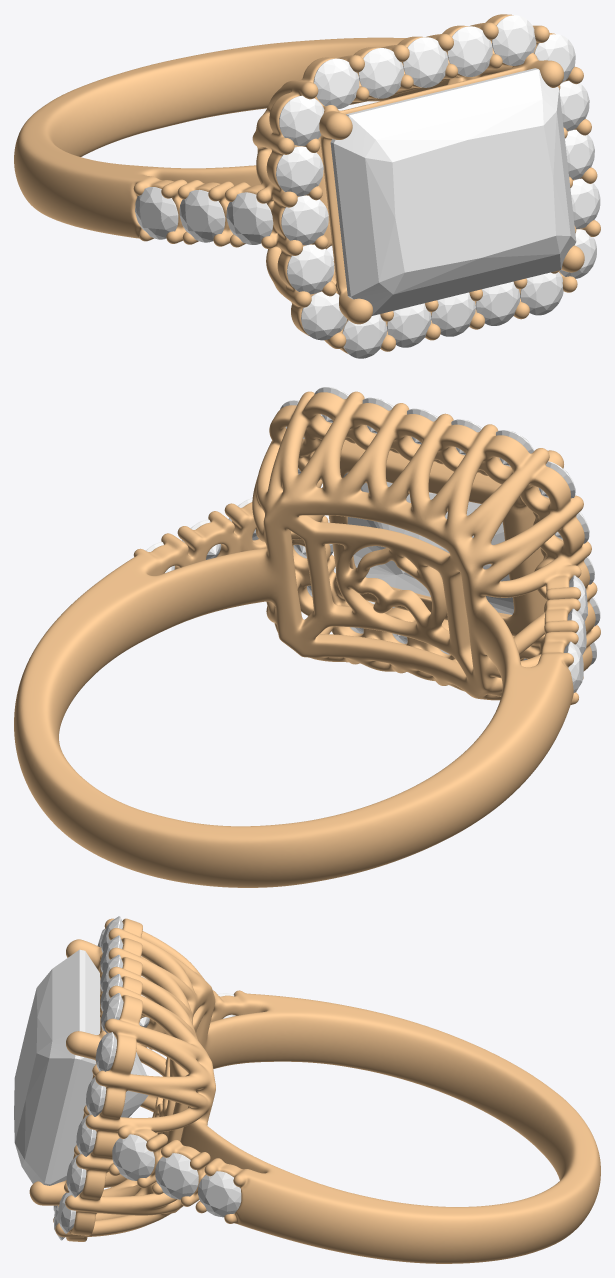
The model's file is TRG2005608_GLB.glb.
3 views of the same model, one above another, from view 1: azimuth 30°, elevation 25°; view 2: azimuth 150°, elevation 25°; view 3: azimuth 270°, elevation 25° (orthographic). The views are drawn at different scales.
Visible parts, largest first — view 1: /TRG2005608_SS_ST.3dm, Diamond_Radiant, Diamond_Round (×23); view 2: /TRG2005608_SS_ST.3dm, Diamond_Radiant; view 3: /TRG2005608_SS_ST.3dm, Diamond_Radiant, Diamond_Round (×9).
Part boxes in pixels (left/top/right/bottom): /TRG2005608_SS_ST.3dm: left=14, top=14, right=600, bottom=353; Diamond_Radiant: left=330, top=68, right=576, bottom=315; Diamond_Round (×23): left=135, top=15, right=600, bottom=358; /TRG2005608_SS_ST.3dm: left=14, top=391, right=600, bottom=887; Diamond_Radiant: left=343, top=466, right=513, bottom=614; /TRG2005608_SS_ST.3dm: left=29, top=918, right=600, bottom=1263; Diamond_Radiant: left=14, top=949, right=148, bottom=1185; Diamond_Round (×9): left=58, top=993, right=241, bottom=1233.
Size of the model in its own units: 2.42 by 1.33 by 2.89.
